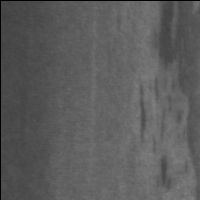inclusion: (156, 1, 200, 200), (136, 78, 175, 146), (160, 153, 191, 192)
